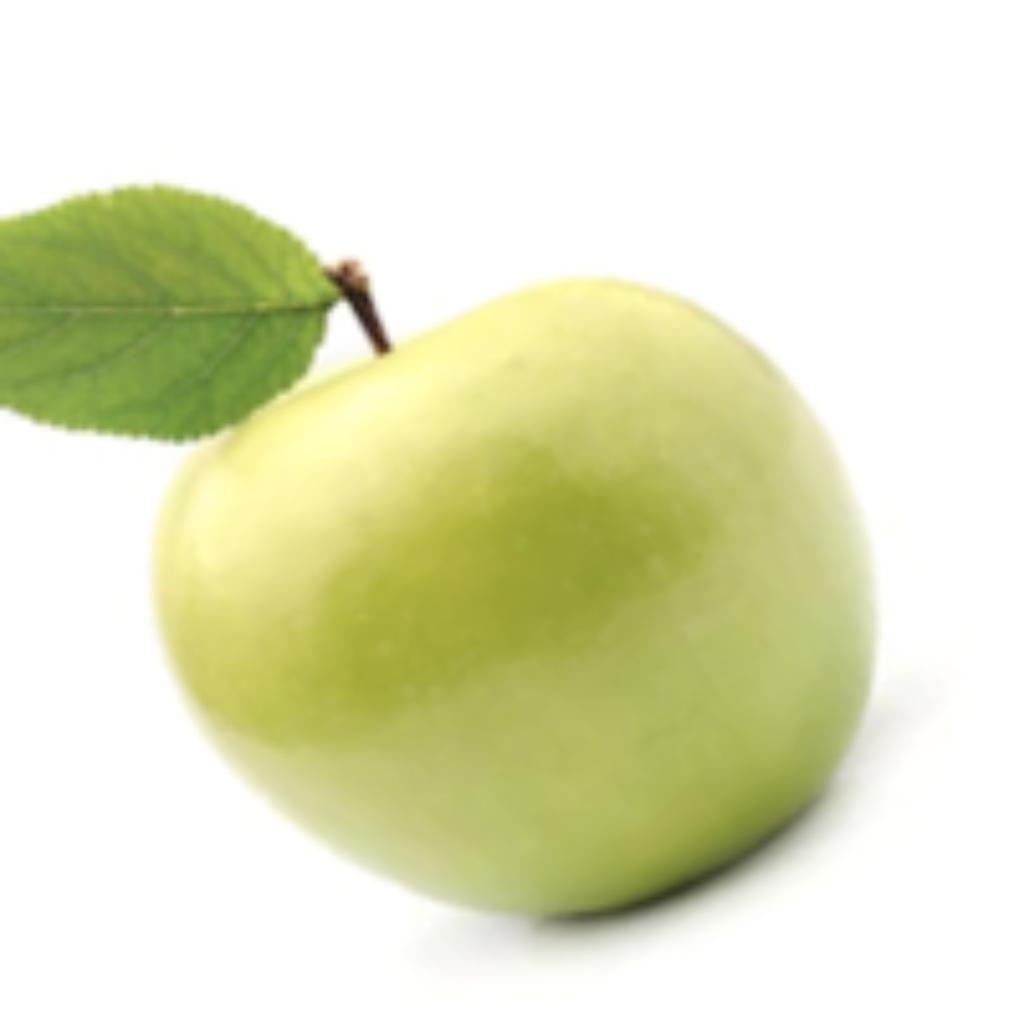apple: (0, 174, 923, 973)
